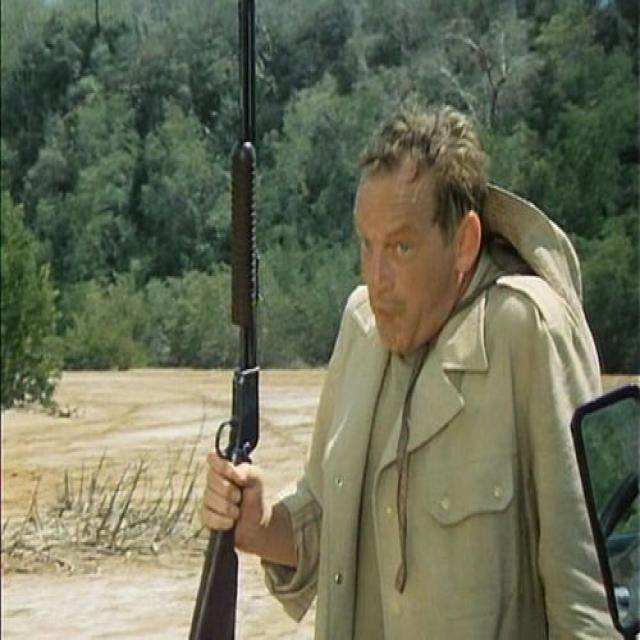rifle: (183, 1, 276, 640)
